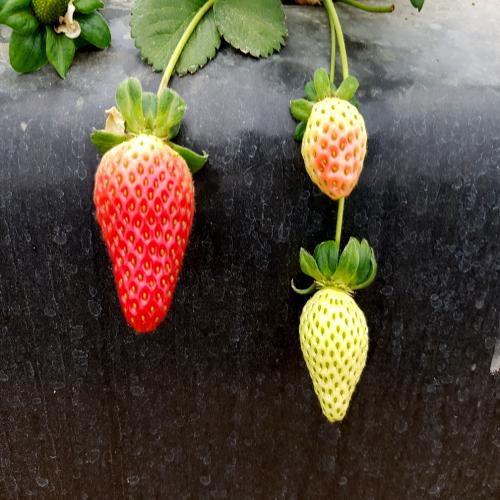ripe: (94, 117, 204, 347)
